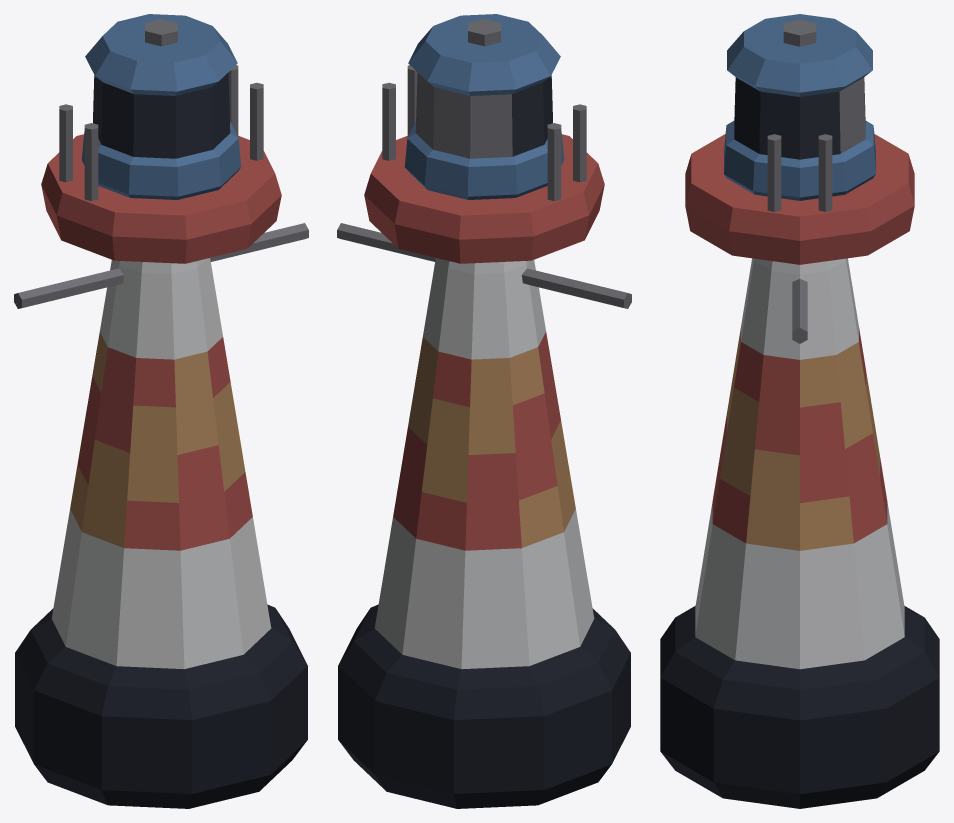
File: nav-beacon.glb
The picture shows the model from 3 angles, left to right: view 1: azimuth 30°, elevation 25°; view 2: azimuth 150°, elevation 25°; view 3: azimuth 270°, elevation 25°; orthographic projection.
Parts seen in each view (by area): view 1: beacon-body, lantern; view 2: beacon-body, lantern; view 3: beacon-body, lantern.
Boxes of the visible parts, x1,y1,x2,y2 form: beacon-body: (14, 65, 308, 808); lantern: (81, 14, 241, 199); beacon-body: (337, 65, 631, 808); lantern: (404, 14, 564, 199); beacon-body: (660, 134, 939, 808); lantern: (724, 14, 875, 200).
Bounding box in the file's own units: 1.26 × 3.05 × 1.07.
